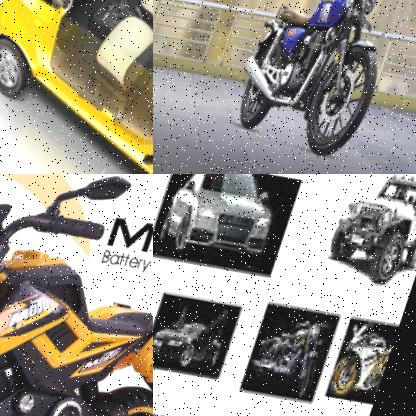bike: (0, 174, 153, 416), (225, 0, 416, 174), (252, 313, 344, 405), (335, 329, 403, 409)
car: (157, 174, 298, 271), (323, 174, 416, 294), (153, 302, 246, 382)
